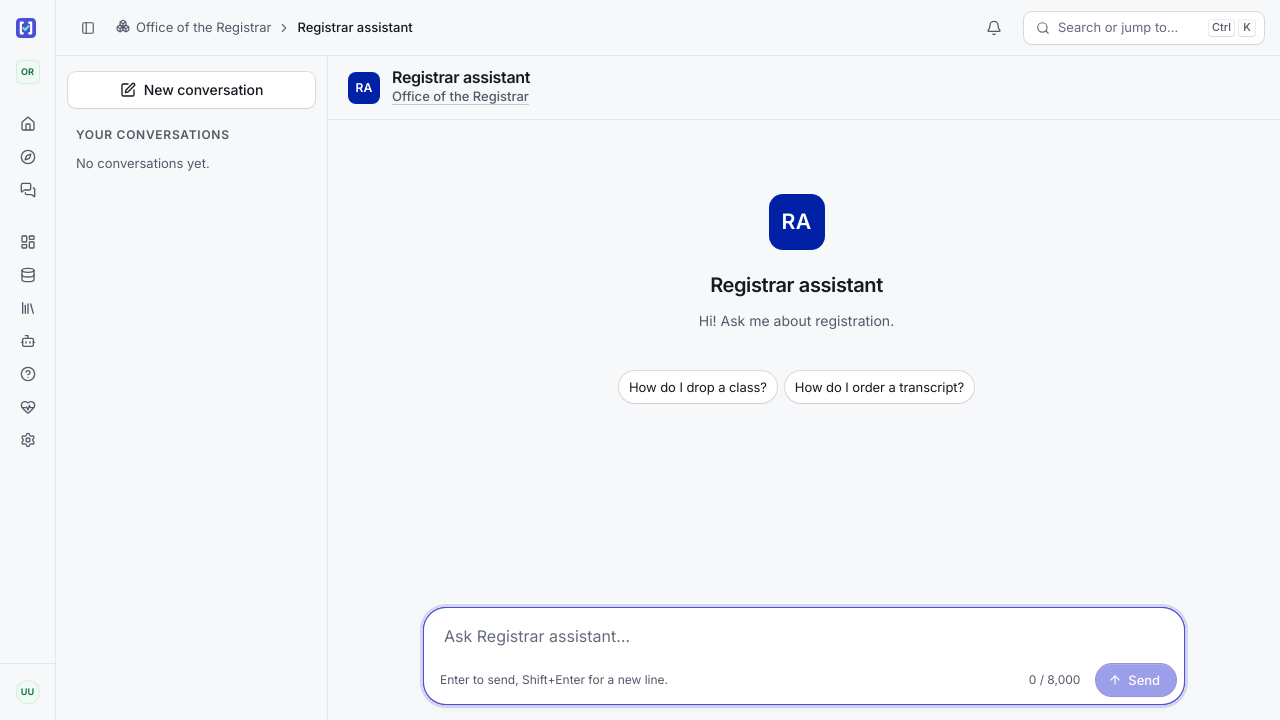
Test: chat page › continues the conversation with its ID
Type "First" into the text box named "Message Registrar assistant" at (804, 638), box [432,616,1176,660]
Then press Enter
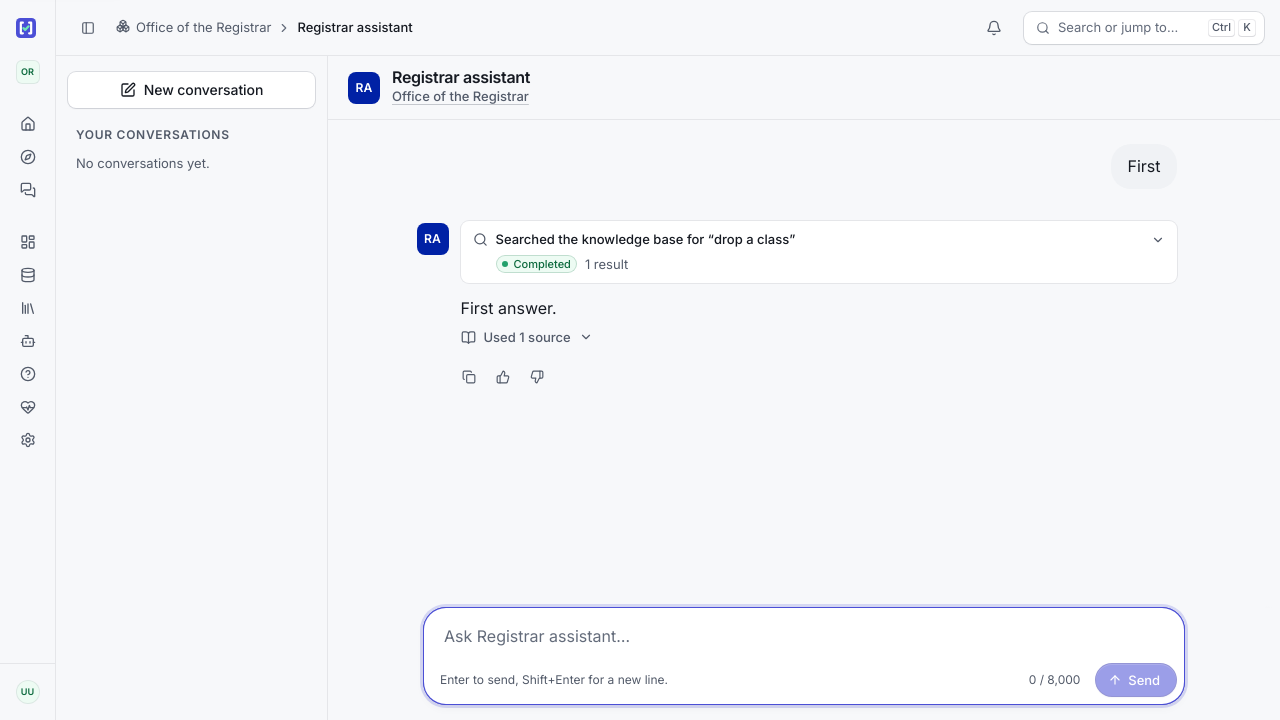
Expected: the text "First answer." is shown, [460,298,557,318]
Type "Second" into the text box named "Message Registrar assistant" at (804, 638), box [432,616,1176,660]
Then press Enter
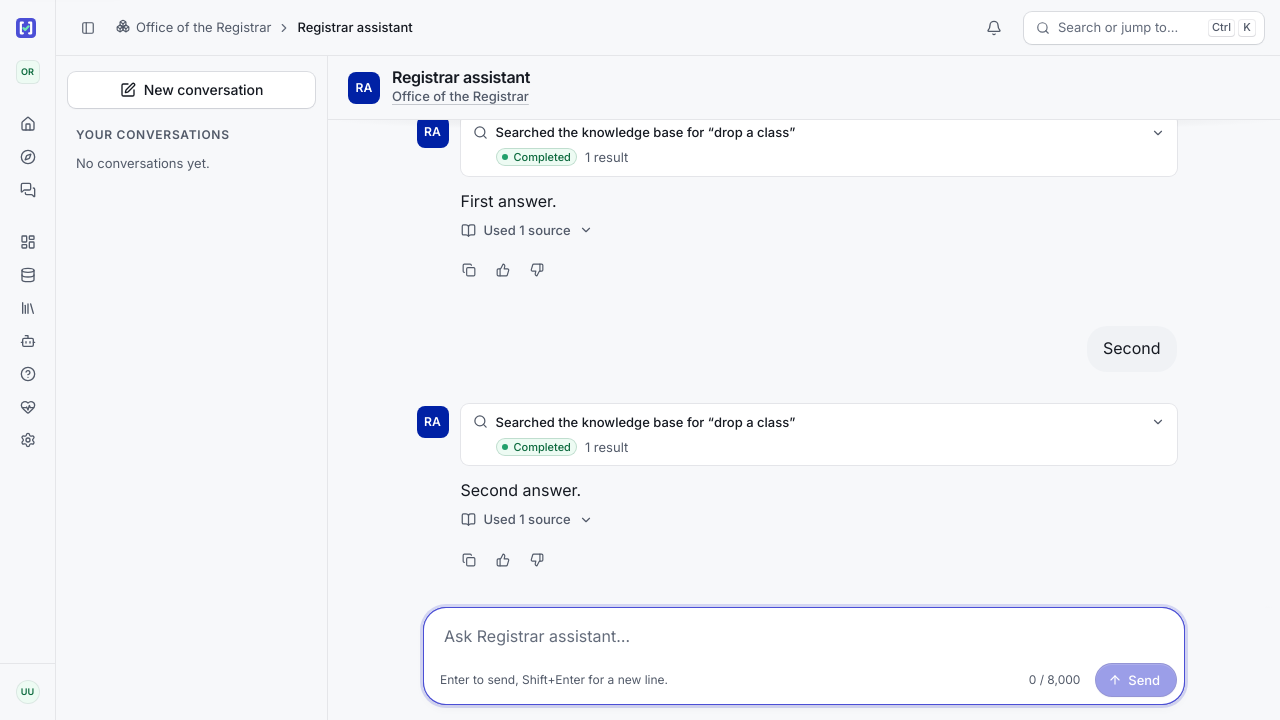
Expected: the text "Second answer." is shown, [460,480,581,500]
